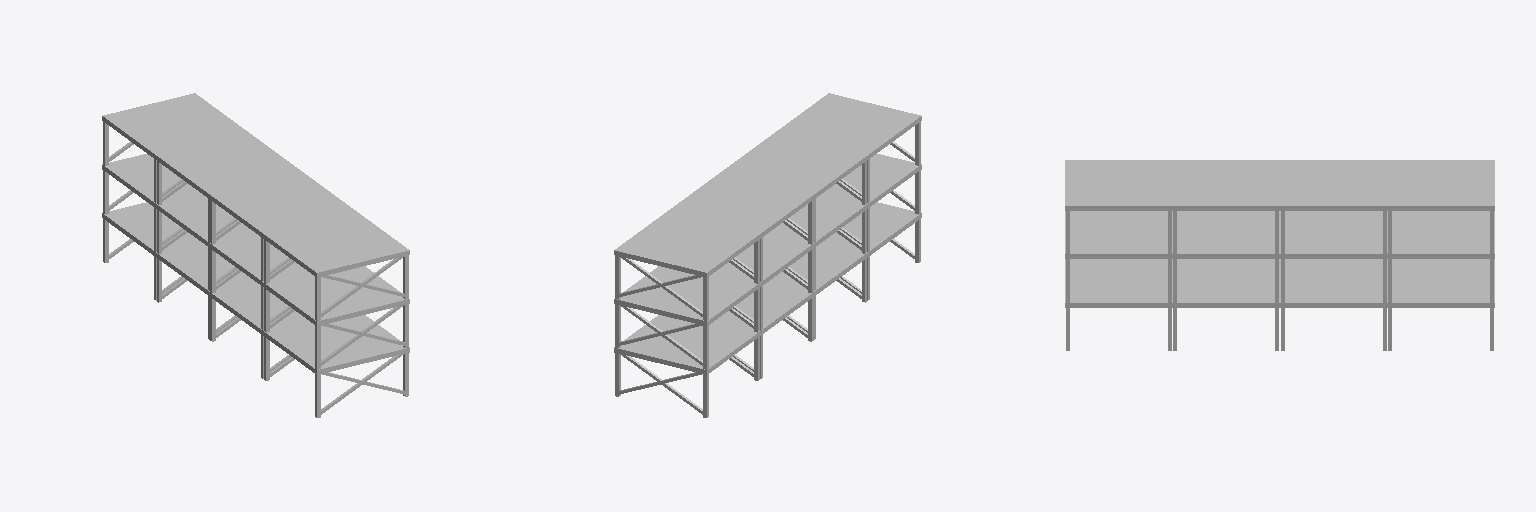
Rendered from regal.obj.
The picture shows the model from 3 angles: view 1: azimuth 30°, elevation 25°; view 2: azimuth 150°, elevation 25°; view 3: azimuth 270°, elevation 25°; orthographic projection.
Parts seen in each view (by area): view 1: Cube.007_Cube.001; view 2: Cube.007_Cube.001; view 3: Cube.007_Cube.001.
Boxes of the visible parts, <box> form: Cube.007_Cube.001: <box>102,93,409,417</box>; Cube.007_Cube.001: <box>614,93,921,417</box>; Cube.007_Cube.001: <box>1065,160,1494,350</box>.
Bounding box in the file's own units: 2 × 3 × 8.